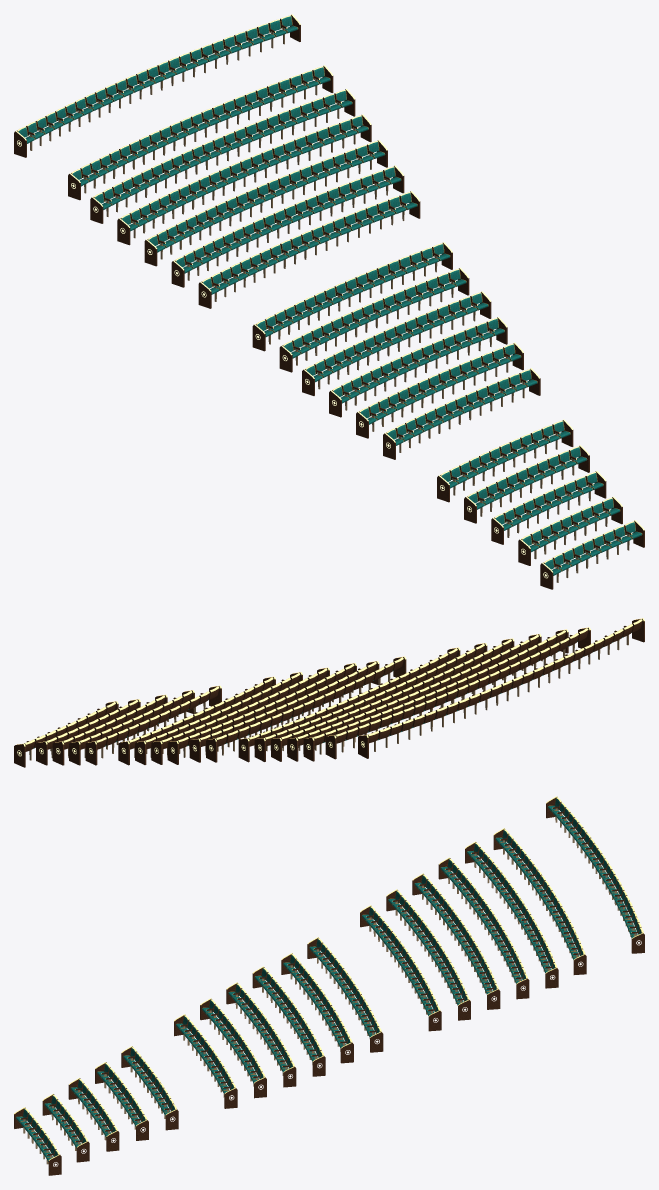
Rendered from mwm_seats_gate_t.glb.
The picture shows the model from 3 angles, top to bottom: view 1: azimuth 30°, elevation 25°; view 2: azimuth 210°, elevation 25°; view 3: azimuth 270°, elevation 25°; orthographic projection. The views are drawn at different scales.
Visible parts, largest first — view 1: velvet_t, walnut, bronze, gold; view 2: walnut, gold, bronze, glow; view 3: velvet_t, walnut, bronze, gold.
Boxes of the visible parts, left/top/right/bottom form: velvet_t: left=18, top=16, right=642, bottom=575; walnut: left=14, top=15, right=644, bottom=589; bronze: left=30, top=27, right=629, bottom=582; gold: left=15, top=14, right=644, bottom=572; walnut: left=14, top=619, right=644, bottom=767; gold: left=16, top=618, right=644, bottom=746; bronze: left=29, top=635, right=628, bottom=760; glow: left=17, top=741, right=364, bottom=756; velvet_t: left=16, top=798, right=641, bottom=1161; walnut: left=14, top=797, right=644, bottom=1175; bronze: left=23, top=808, right=636, bottom=1164; gold: left=14, top=796, right=643, bottom=1160.
Bounding box in the file's own units: 20.19 × 16.2 × 38.53.
5 materials, 2 textured.
